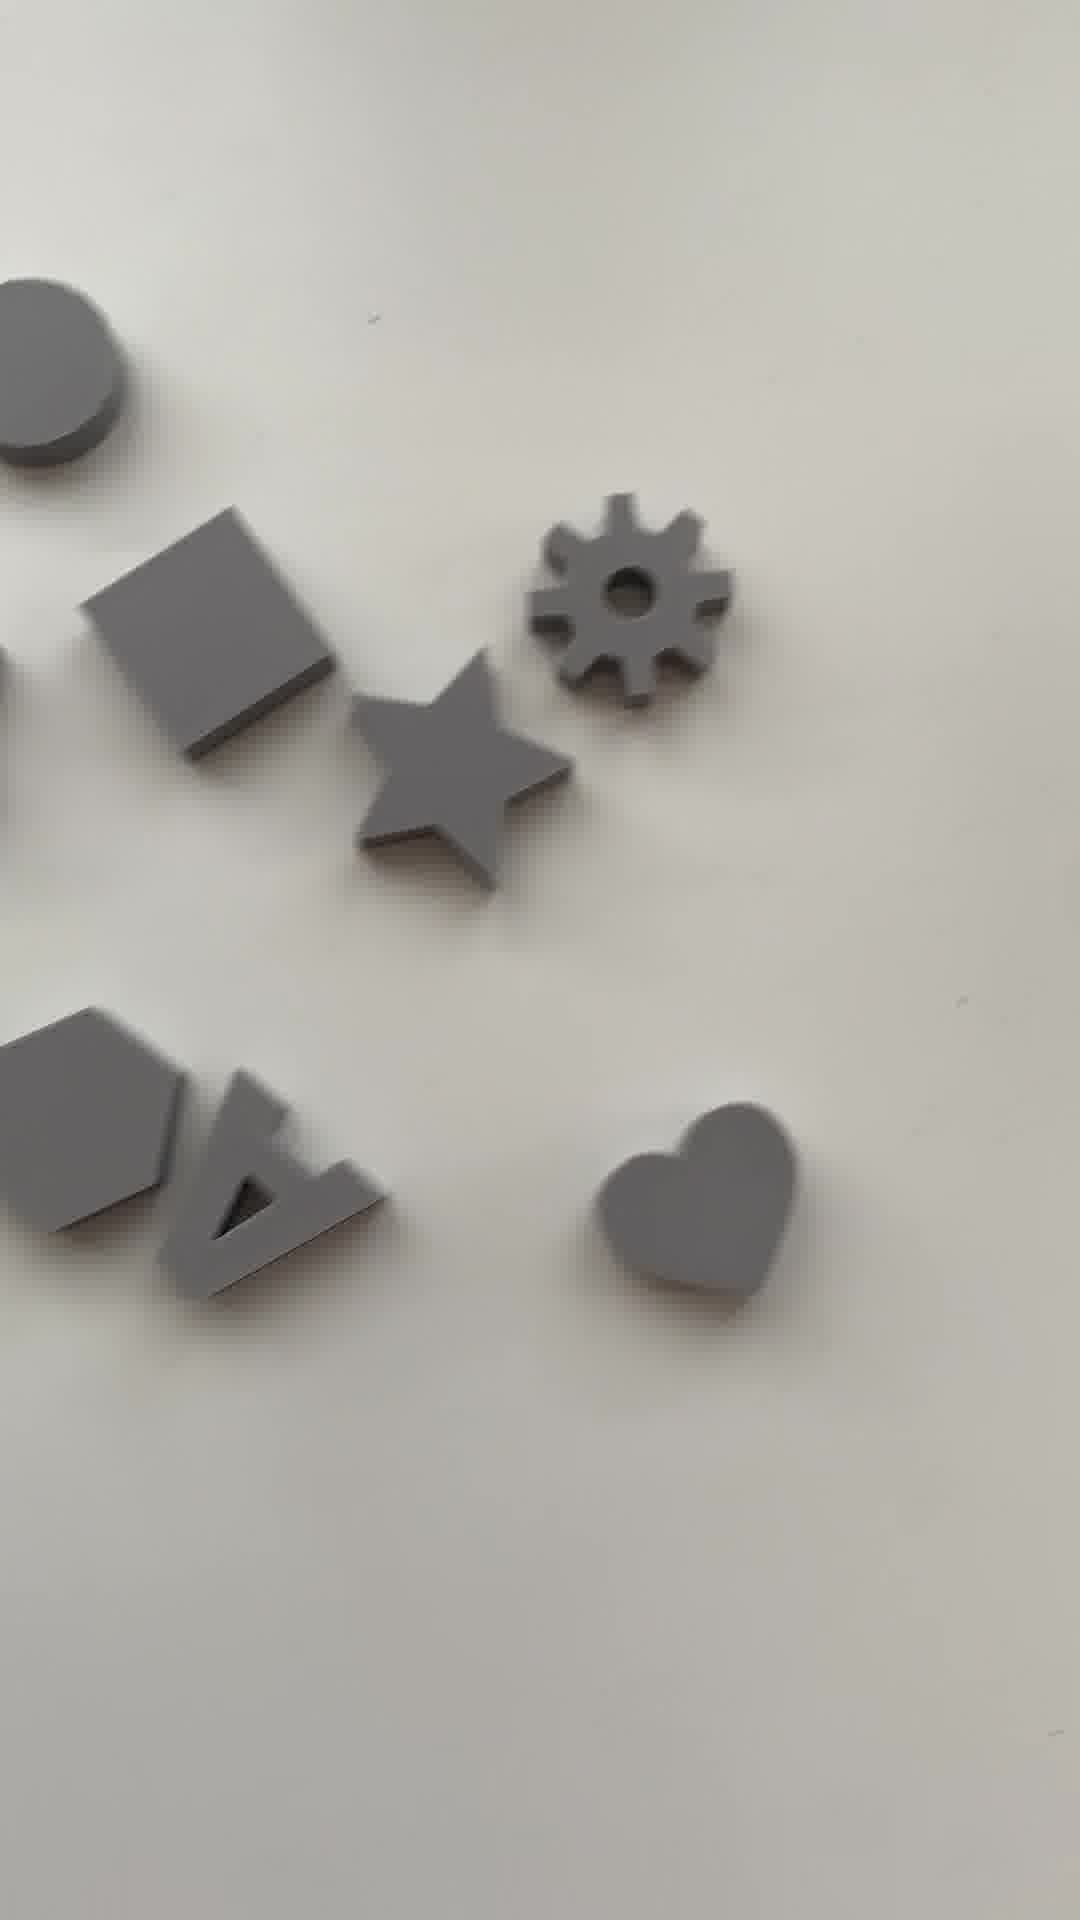Gray A-letter: (156, 1069, 396, 1309)
Gray circle: (1, 269, 138, 477)
Gray gear: (512, 496, 762, 711)
Gray heart: (585, 1098, 819, 1320)
Gray hexagon: (1, 1006, 186, 1242)
Gray square: (78, 512, 338, 767)
Gray star: (327, 650, 572, 903)
